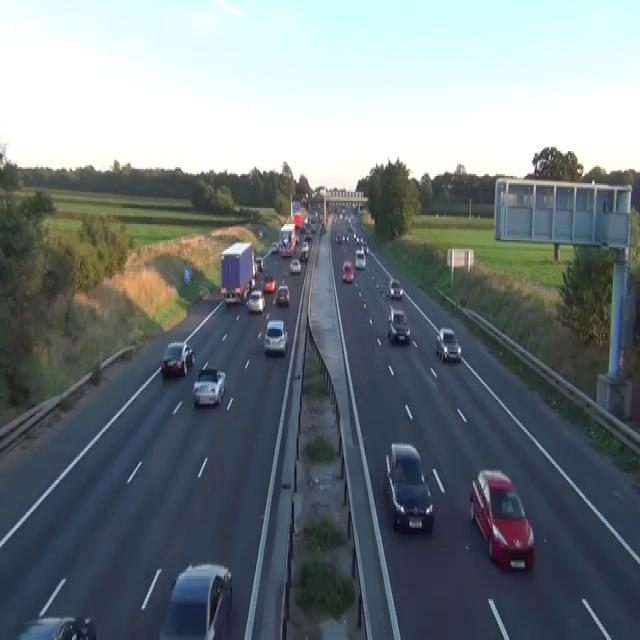Car: (469, 468, 535, 570), (158, 562, 232, 638), (15, 578, 96, 638), (385, 441, 433, 533), (15, 614, 96, 638), (192, 363, 226, 407), (160, 339, 195, 377), (263, 318, 288, 356), (435, 327, 461, 363), (387, 306, 410, 345), (247, 290, 265, 313), (224, 286, 242, 304), (389, 277, 403, 299), (275, 284, 289, 306), (388, 302, 403, 322), (262, 274, 276, 293), (342, 260, 354, 282), (355, 235, 368, 254), (354, 249, 366, 268), (289, 258, 301, 274), (300, 242, 309, 261), (255, 256, 263, 270), (361, 240, 368, 254), (300, 192, 308, 204), (253, 262, 259, 278), (271, 240, 278, 252), (249, 277, 255, 290), (304, 229, 311, 240), (320, 222, 326, 233), (335, 233, 341, 242), (310, 222, 316, 231), (344, 233, 349, 243), (295, 234, 299, 243), (258, 228, 262, 236)
Truck: (220, 240, 254, 304), (278, 222, 296, 256), (291, 201, 303, 227)
